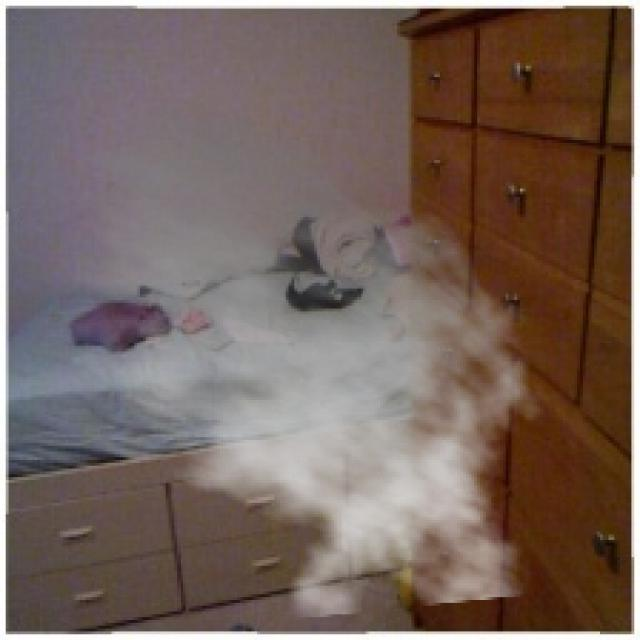smoke: (29, 97, 560, 620)
